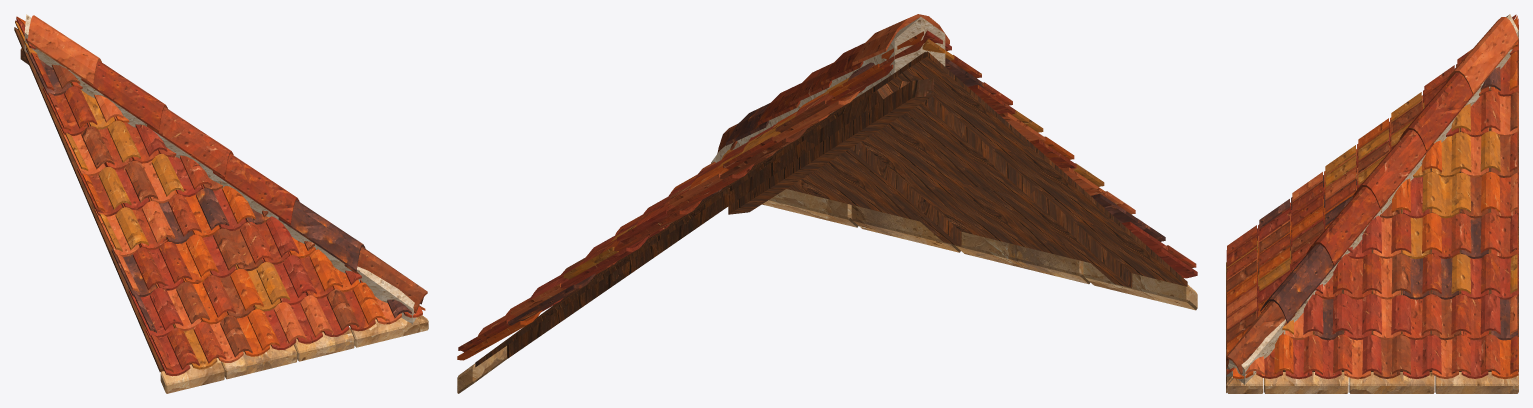
The model's file is roof_45_outer__clay_brick.glb.
3 renders of one model, left to right at view 1: azimuth 30°, elevation 25°; view 2: azimuth 150°, elevation 25°; view 3: azimuth 270°, elevation 25°, orthographic. The views are drawn at different scales.
Parts seen in each view (by area): view 1: model; view 2: model; view 3: model.
Part boxes in pixels (x1=…): model: x1=14, y1=14, x2=428, y2=393; model: x1=457, y1=14, x2=1197, y2=393; model: x1=1226, y1=14, x2=1518, y2=393.
Size of the model in its own units: 1.99 by 1.95 by 1.99.
Materials: 12 (12 with a texture image).
